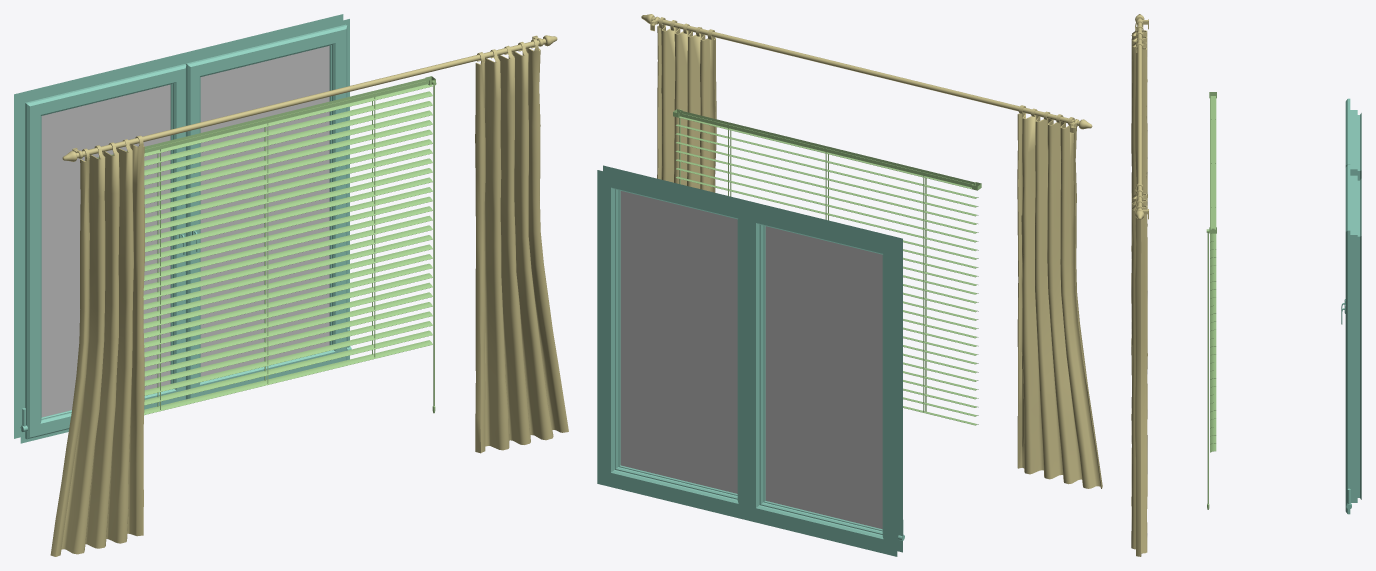
File: Window.fbx
3 views of the same model, side by side, from view 1: azimuth 30°, elevation 25°; view 2: azimuth 150°, elevation 25°; view 3: azimuth 270°, elevation 25° (orthographic). The views are drawn at different scales.
Visible parts, largest first — view 1: Curtain, Sunscreen, Window_r, Window_l, Window_frame; view 2: Curtain, Window_l, Window_r, Window_frame, Sunscreen; view 3: Curtain, Window_frame, Window_r, Sunscreen, Window_l.
Part boxes in pixels (<box>): Curtain: <box>50,35,568,556</box>; Sunscreen: <box>97,76,436,415</box>; Window_r: <box>186,24,351,399</box>; Window_l: <box>20,64,186,439</box>; Window_frame: <box>14,14,349,443</box>; Curtain: <box>641,14,1102,488</box>; Window_l: <box>759,225,904,540</box>; Window_r: <box>615,189,737,499</box>; Window_frame: <box>597,165,902,556</box>; Sunscreen: <box>673,109,981,425</box>; Curtain: <box>1131,14,1148,556</box>; Window_frame: <box>1350,110,1361,502</box>; Window_r: <box>1344,165,1357,514</box>; Sunscreen: <box>1206,92,1216,509</box>; Window_l: <box>1344,98,1357,304</box>.
Bounding box in the file's own units: 314 × 233 × 144.
